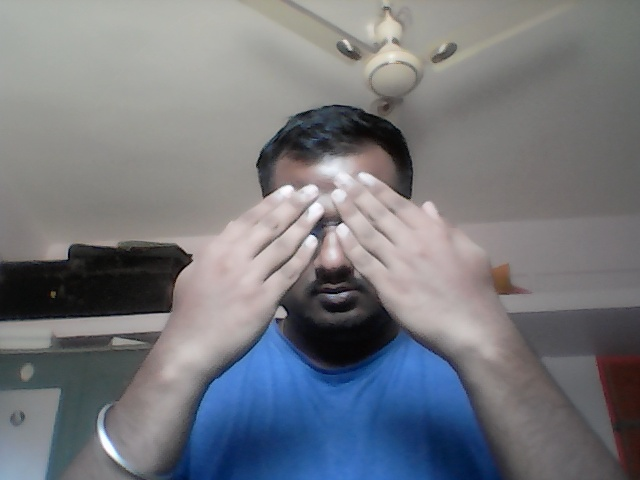Thank You: (171, 170, 495, 358)
